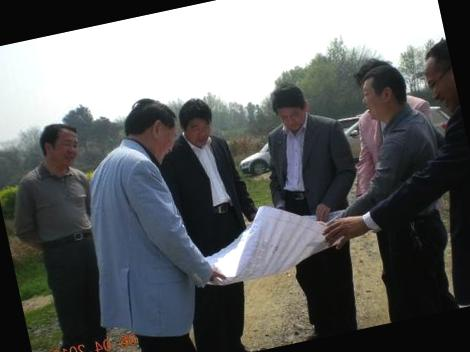no_helmet: (117, 90, 183, 166), (354, 57, 414, 124), (417, 36, 460, 116), (35, 117, 86, 177), (266, 78, 316, 134), (173, 93, 221, 151)
